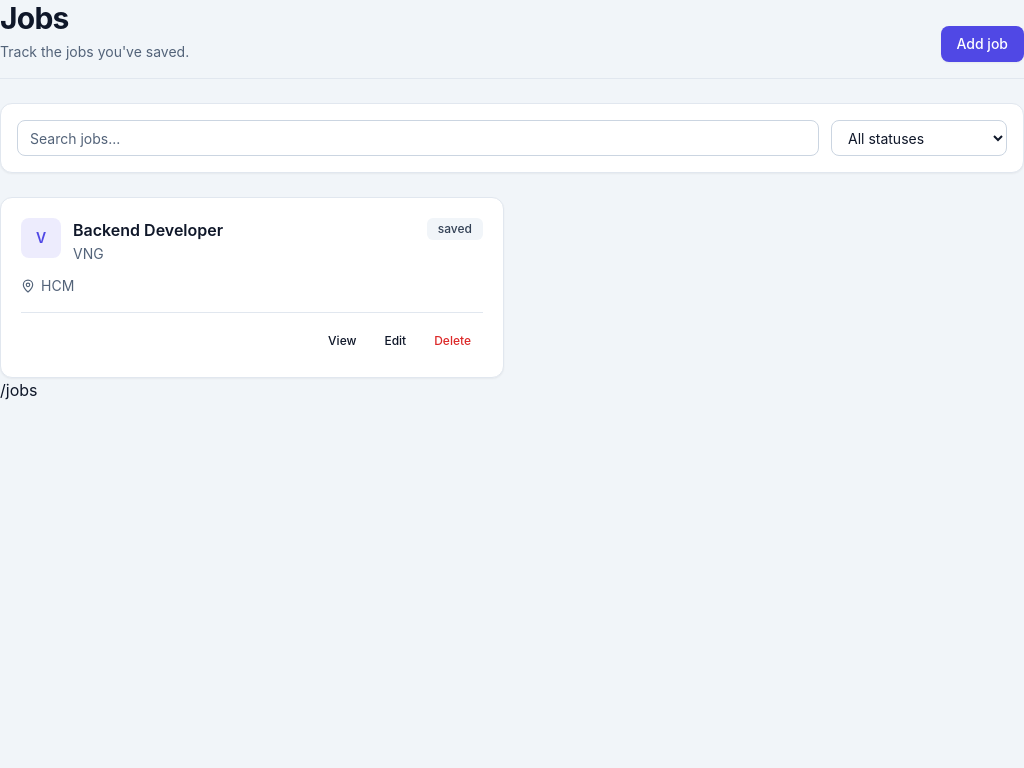
JobsPage › shows a delete error message on failure
Check: the link "Backend Developer" is shown, box [73,220,223,240]
Click the button "Delete" at [453, 341], box [422,325,483,357]
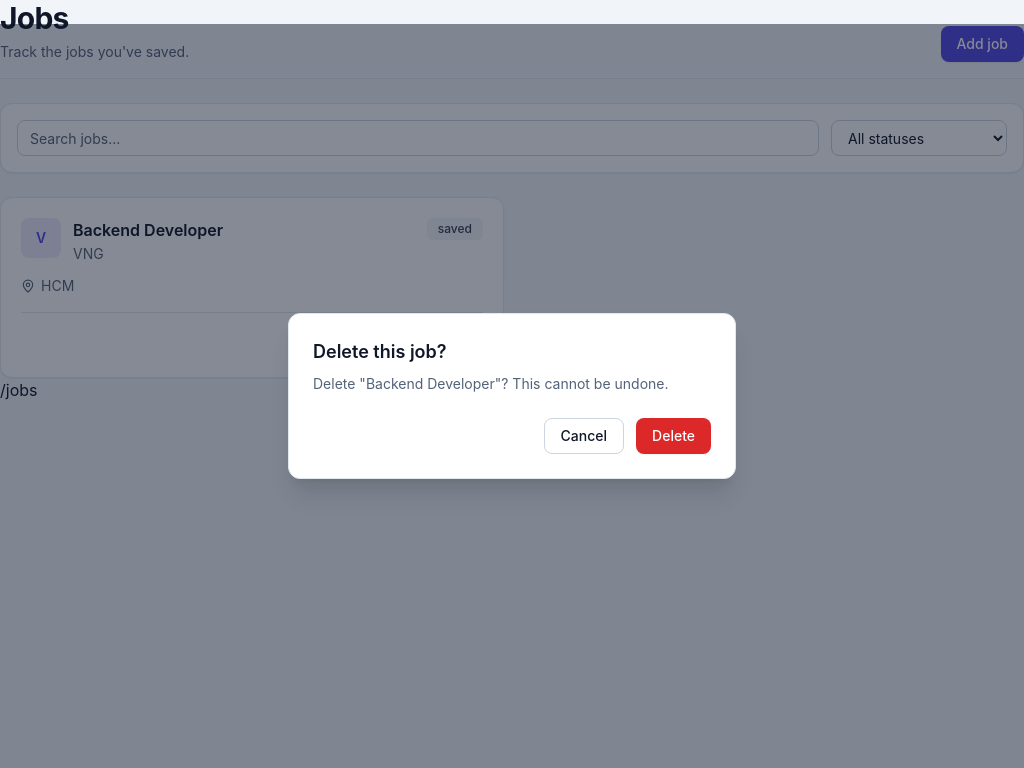
Click the button "Delete" at [674, 436], box [636,418,711,454]
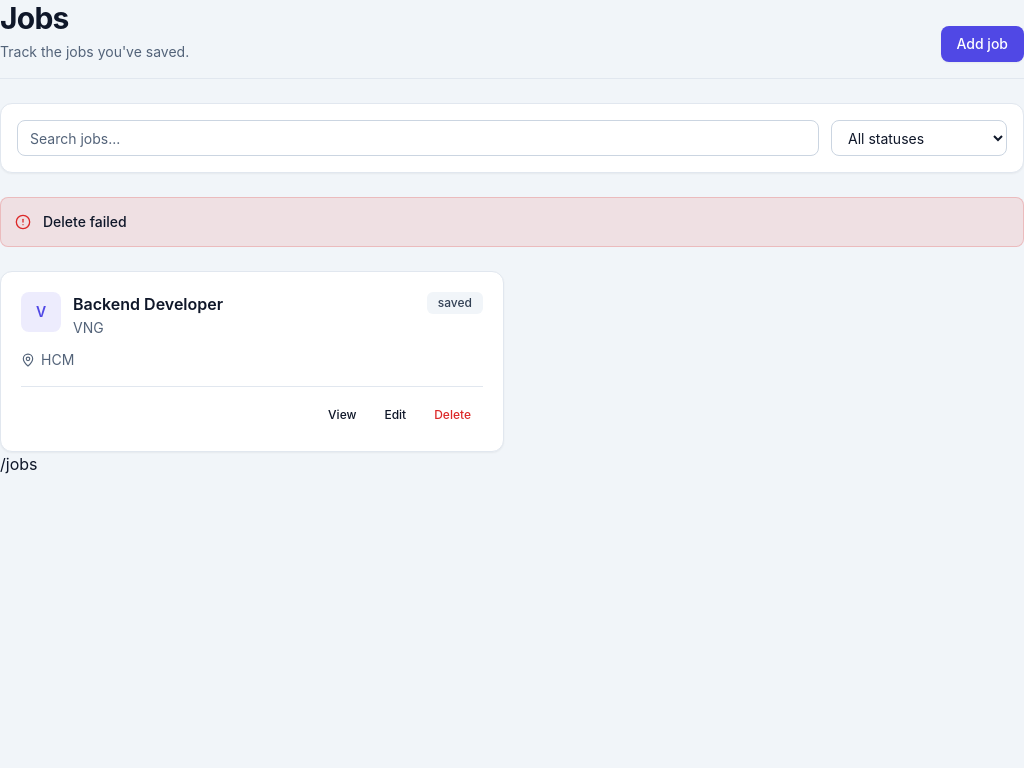
Check: the text "Delete failed" is shown, box [43,213,127,230]
